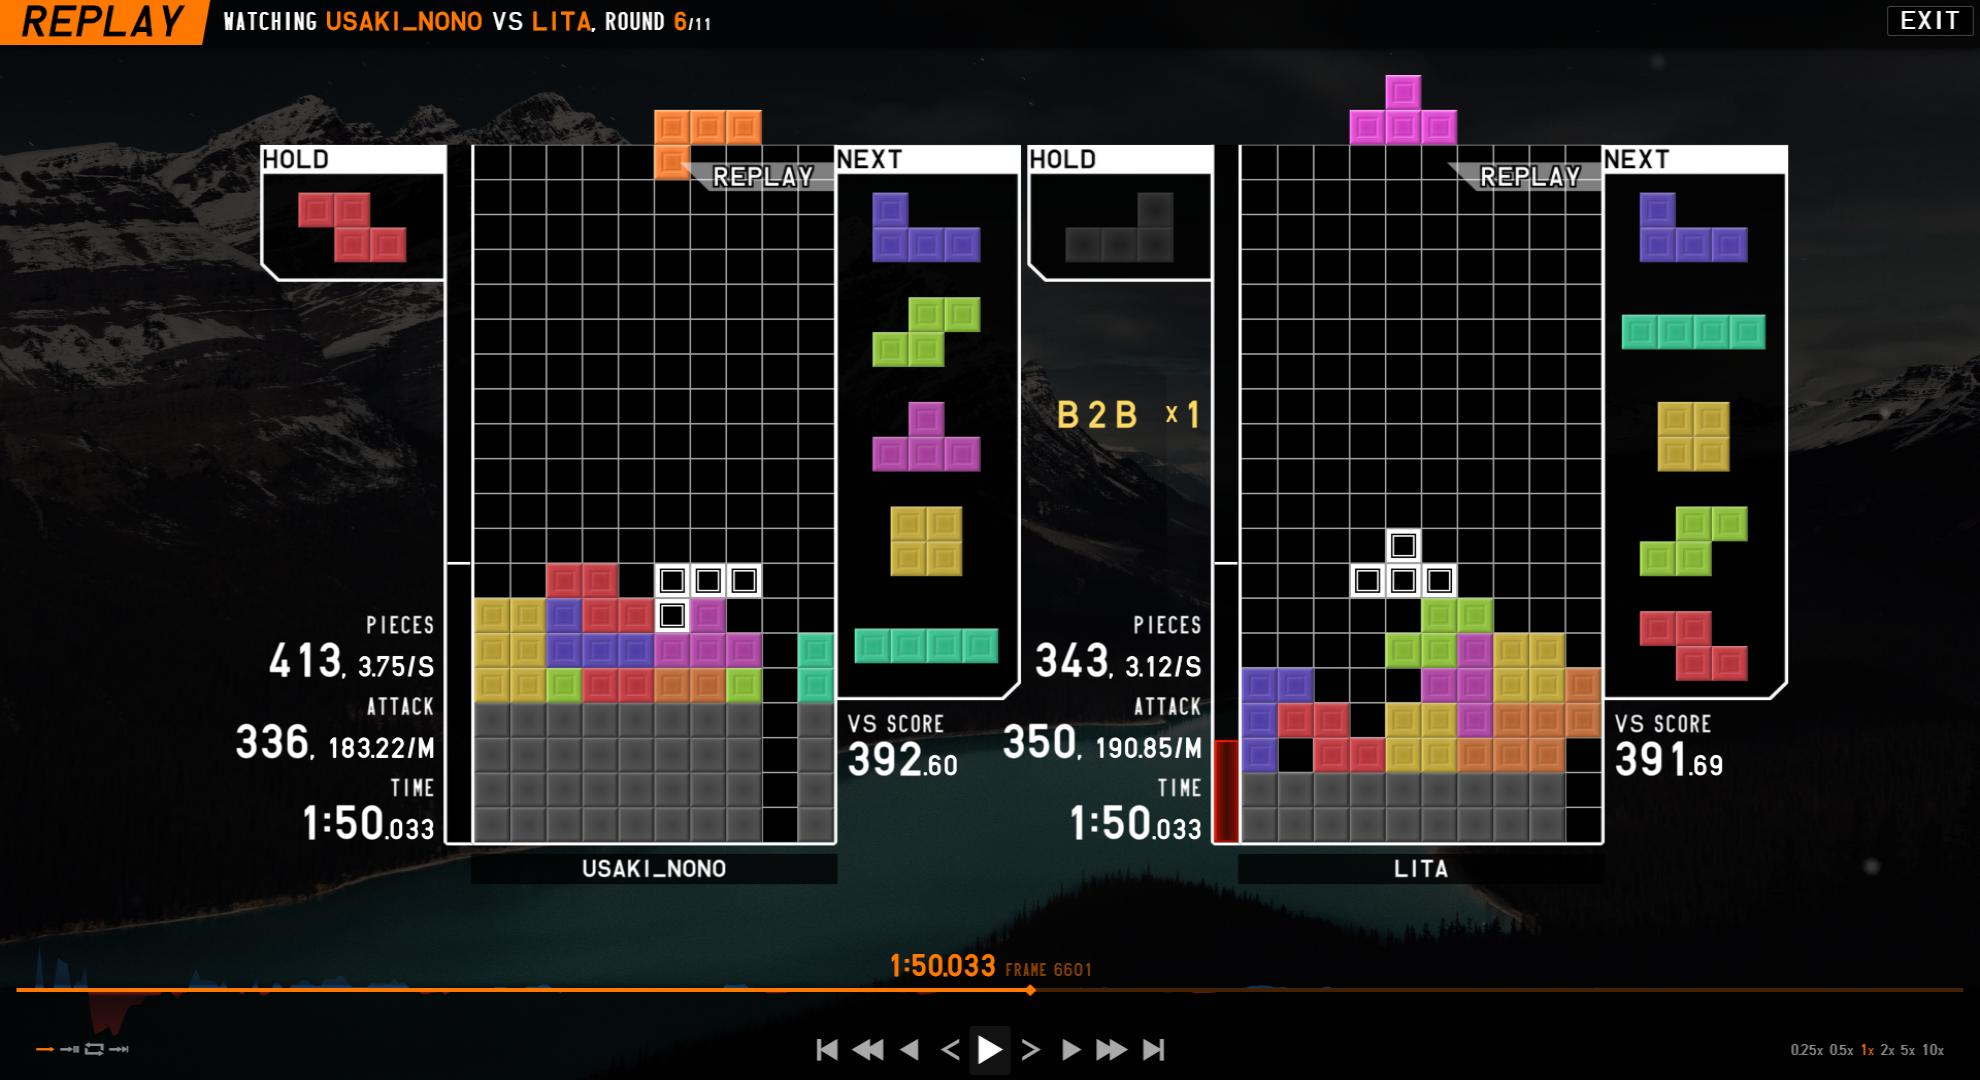tspin: (1319, 636, 1427, 741)
